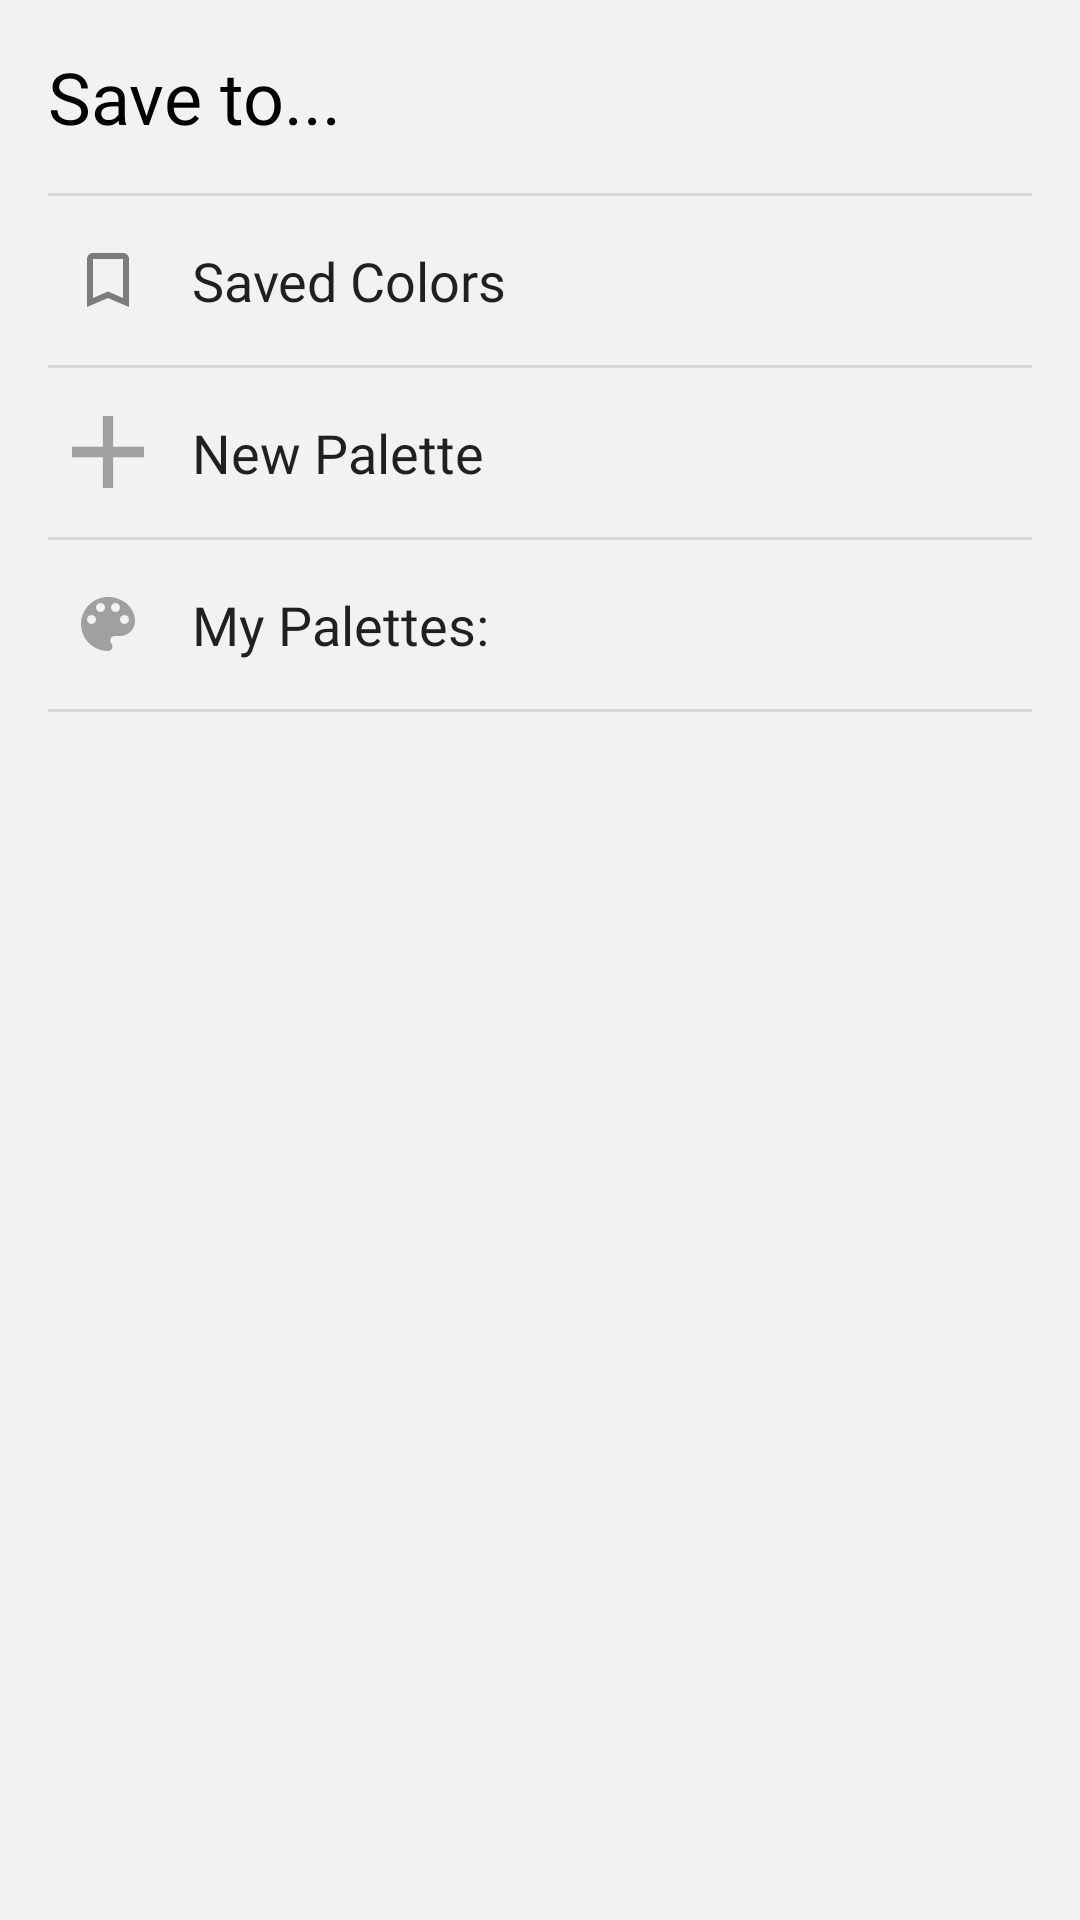

Where icons sit on this 1080px×1920px app screen, as bbox=(x1, y1, x2, y2):
add: bbox=(72, 416, 144, 488)
